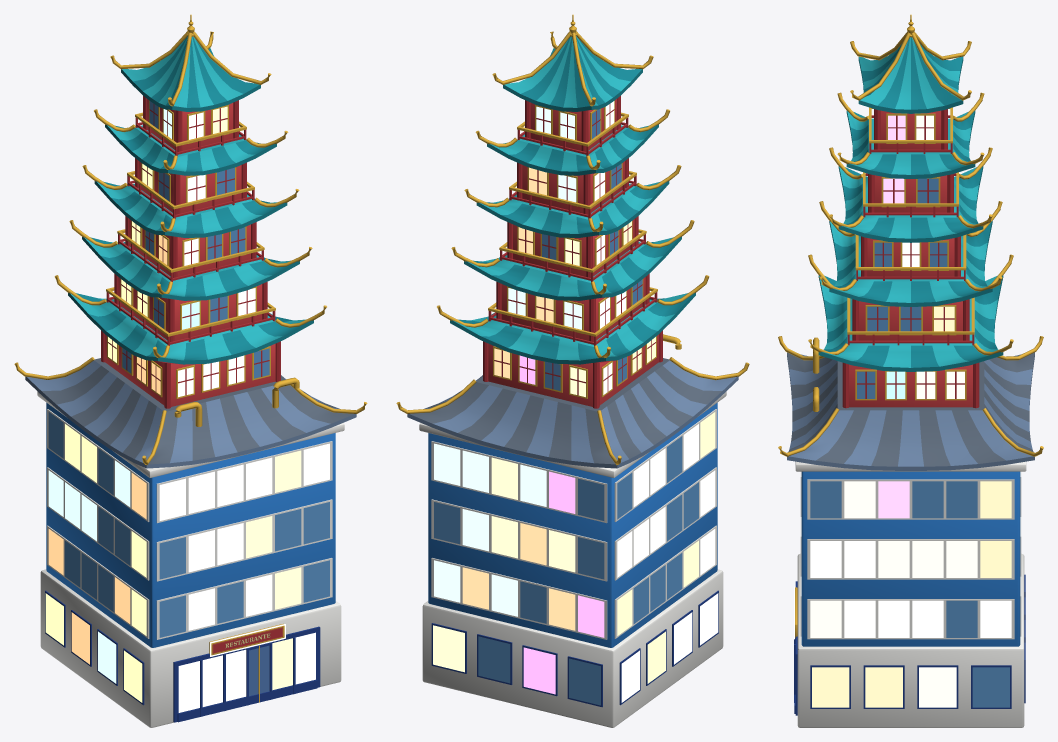
The model's file is torre_vidro_pagode_jade.glb.
The picture shows the model from 3 angles, left to right: view 1: azimuth 30°, elevation 25°; view 2: azimuth 150°, elevation 25°; view 3: azimuth 270°, elevation 25°; orthographic projection. The views are drawn at different scales.
Parts seen in each view (by area): view 1: torre_vidro_pagode_jade; view 2: torre_vidro_pagode_jade; view 3: torre_vidro_pagode_jade.
Part boxes in pixels (x1=…): torre_vidro_pagode_jade: x1=14, y1=14, x2=367, y2=727; torre_vidro_pagode_jade: x1=396, y1=14, x2=749, y2=727; torre_vidro_pagode_jade: x1=778, y1=14, x2=1043, y2=727.
Bounding box in the file's own units: 12.88 × 35.71 × 12.9.
Materials: 10 (2 with a texture image).
